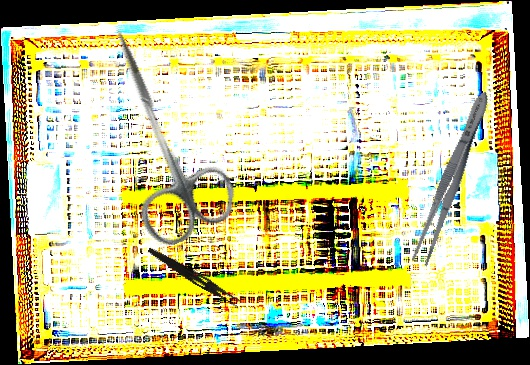Dressing Forceps: (407, 87, 497, 270), (144, 246, 244, 308)
Iris Scissors: (69, 12, 245, 253)
